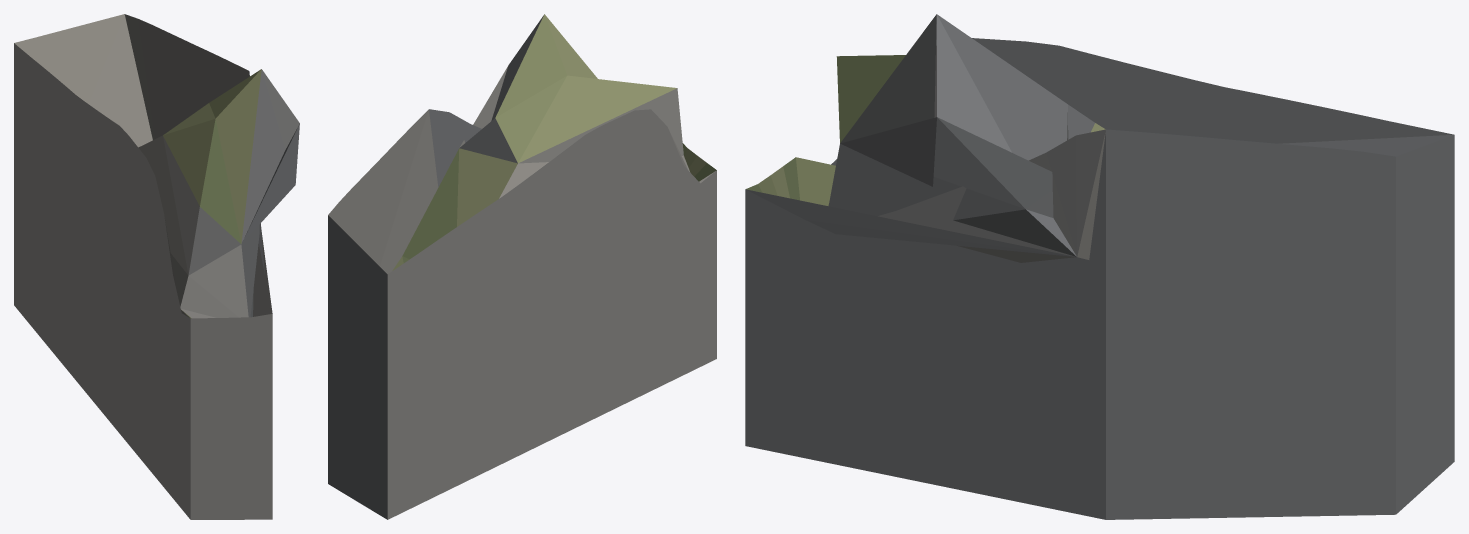
Rendered from cliff_central_wall.glb.
3 views of the same model, side by side, from view 1: azimuth 30°, elevation 25°; view 2: azimuth 150°, elevation 25°; view 3: azimuth 270°, elevation 25° (orthographic). The views are drawn at different scales.
Parts seen in each view (by area): view 1: cliff_central_wall; view 2: cliff_central_wall; view 3: cliff_central_wall.
Boxes of the visible parts, left/top/right/bottom form: cliff_central_wall: left=14, top=14, right=299, bottom=519; cliff_central_wall: left=328, top=14, right=716, bottom=519; cliff_central_wall: left=745, top=14, right=1454, bottom=519.
Bounding box in the file's own units: 38.99 × 77 × 105.
